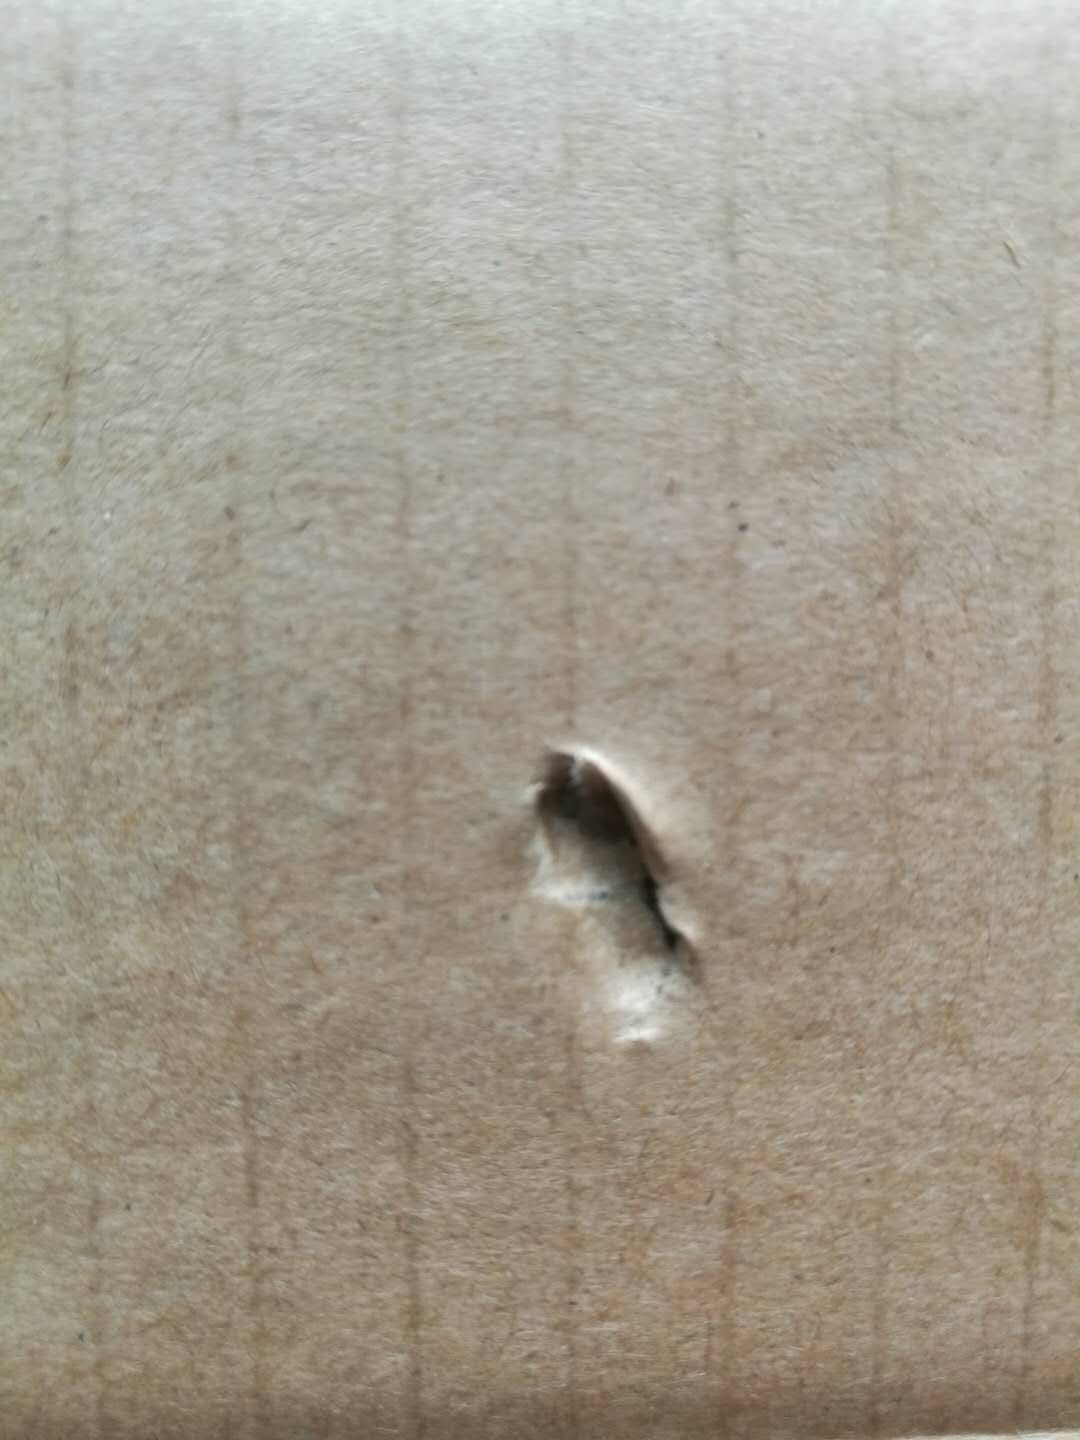defect: (493, 712, 769, 1087)
